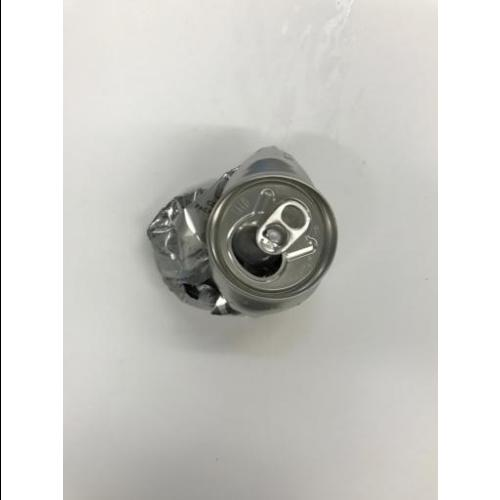metal: (147, 147, 339, 319)
